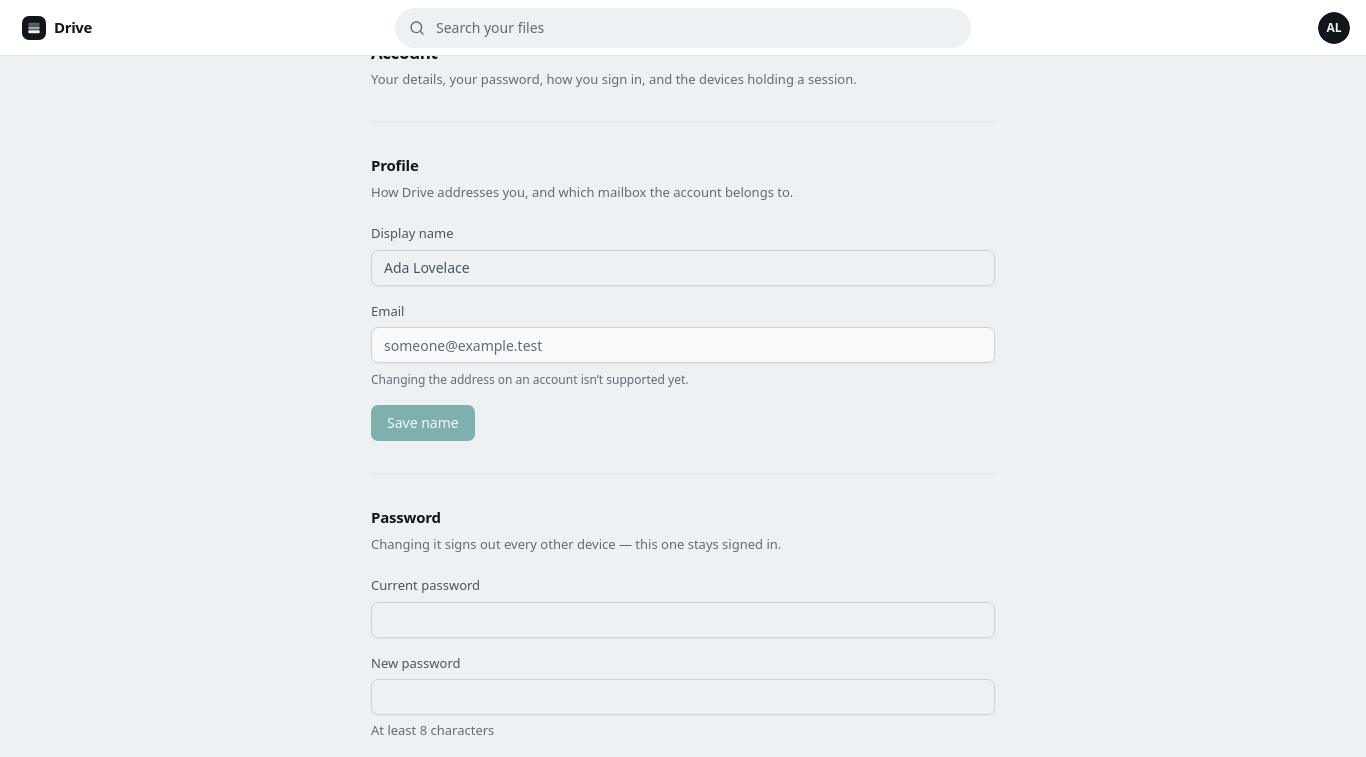
Test: the profile section › saves the display name and repaints the avatar from the answer, not a refetch
Check: the text "AL" is shown, box [1318,12,1350,44]
Replace the text in the field labelled "Display name" with "Grace Hopper": [683, 268] box [371,250,995,286]
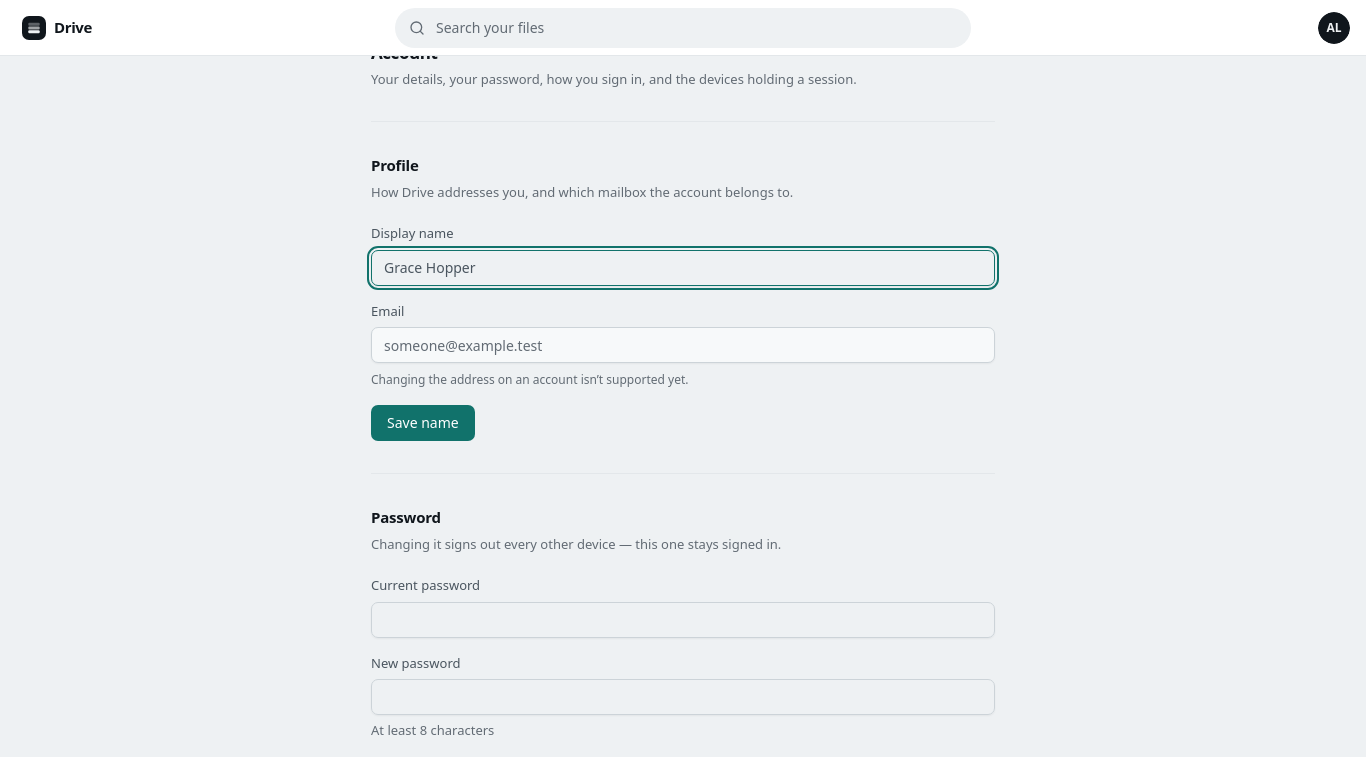
Click the button "Save name": [423, 423] box [371,405,475,441]
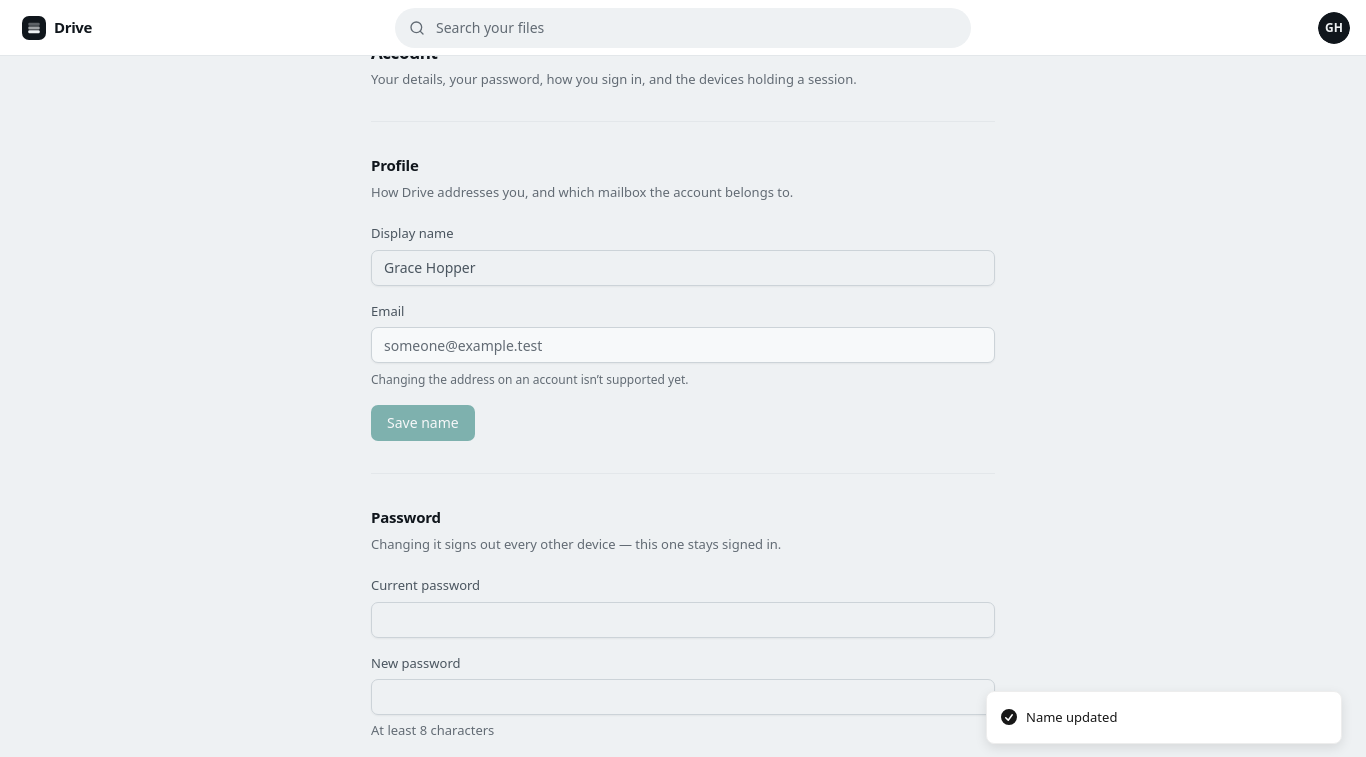
Check: the text "GH" is shown, box [1318,12,1350,44]
